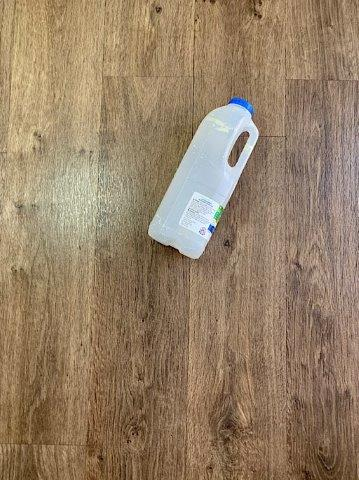botolplastik: (149, 100, 258, 256)
